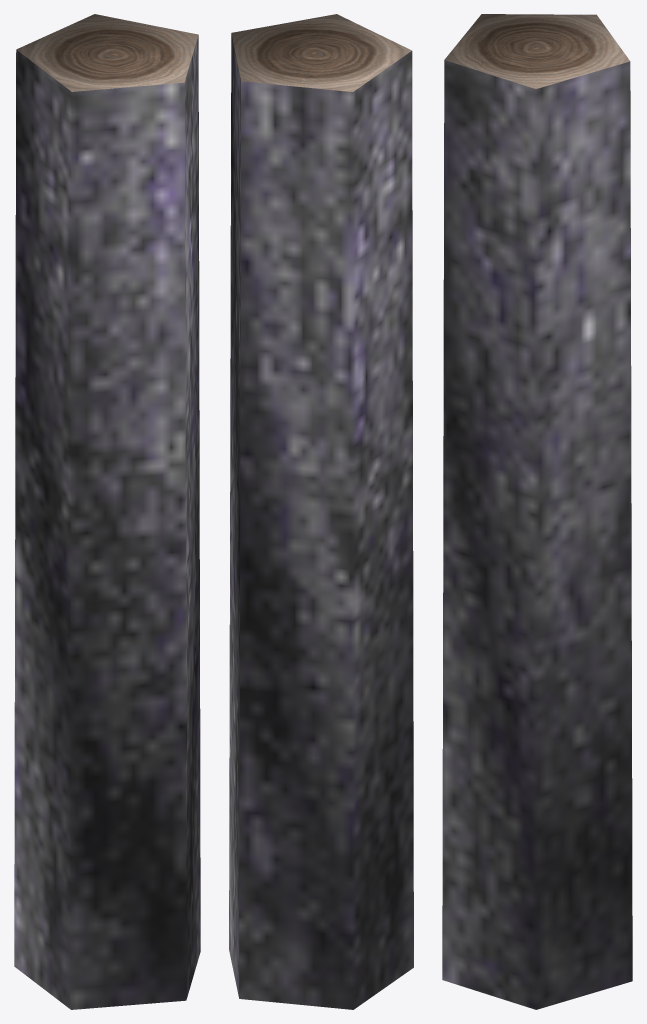
File: spruceLog1.fbx
The picture shows the model from 3 angles, left to right: view 1: azimuth 30°, elevation 25°; view 2: azimuth 150°, elevation 25°; view 3: azimuth 270°, elevation 25°; orthographic projection.
Parts seen in each view (by area): view 1: Spruce Tree Log 1; view 2: Spruce Tree Log 1; view 3: Spruce Tree Log 1.
Boxes of the visible parts, x1,y1,x2,y2 form: Spruce Tree Log 1: (14, 14, 200, 1009); Spruce Tree Log 1: (229, 14, 413, 1009); Spruce Tree Log 1: (442, 14, 632, 1009).
Bounding box in the file's own units: 37.72 × 210 × 39.43.
